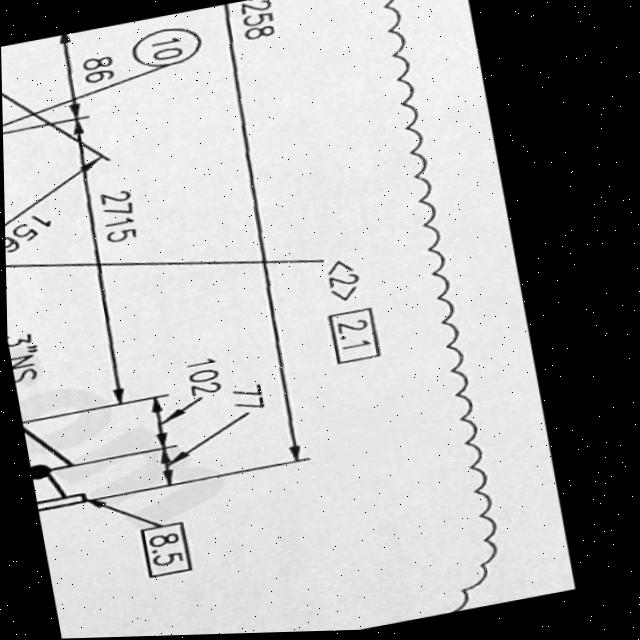Item number: (320, 305, 385, 371), (130, 519, 194, 583)
Measrement: (211, 0, 346, 467), (62, 113, 165, 408), (4, 149, 119, 261), (150, 383, 268, 491), (138, 353, 225, 453), (44, 27, 123, 123), (6, 326, 48, 389)
Symbol: (26, 448, 91, 521)
Weld number: (125, 19, 209, 76)
